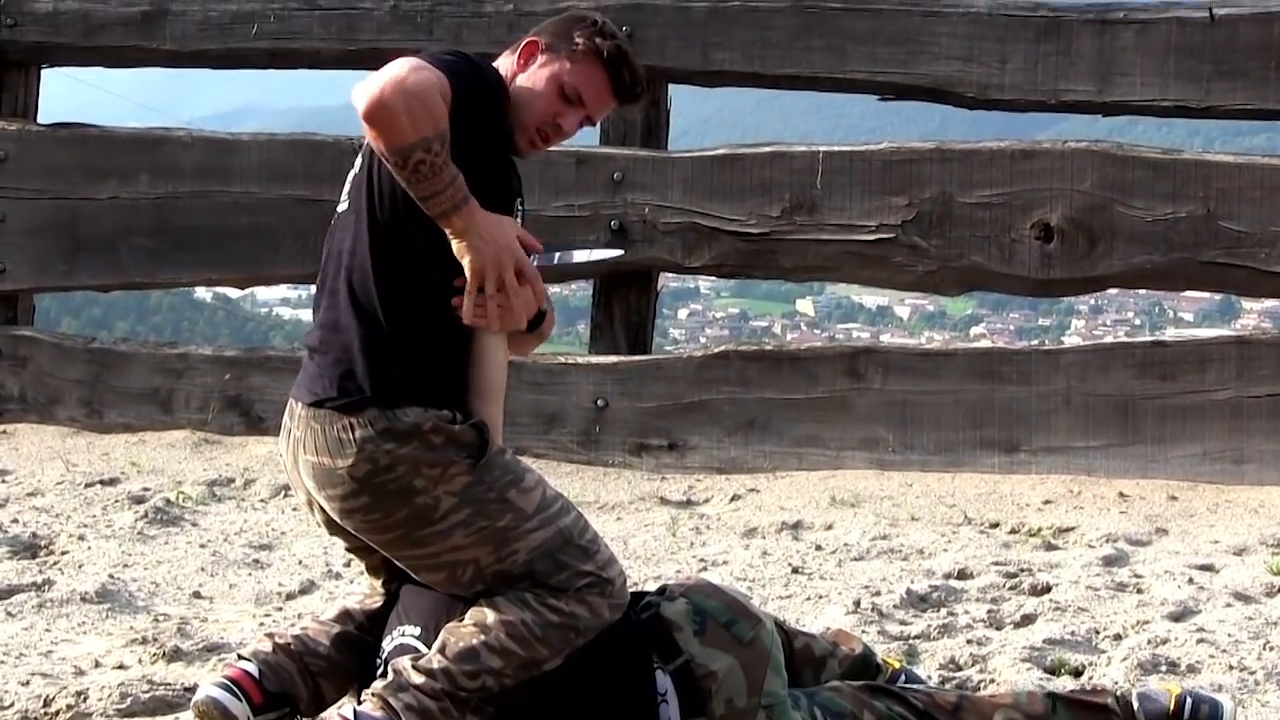knife: (487, 229, 645, 285)
